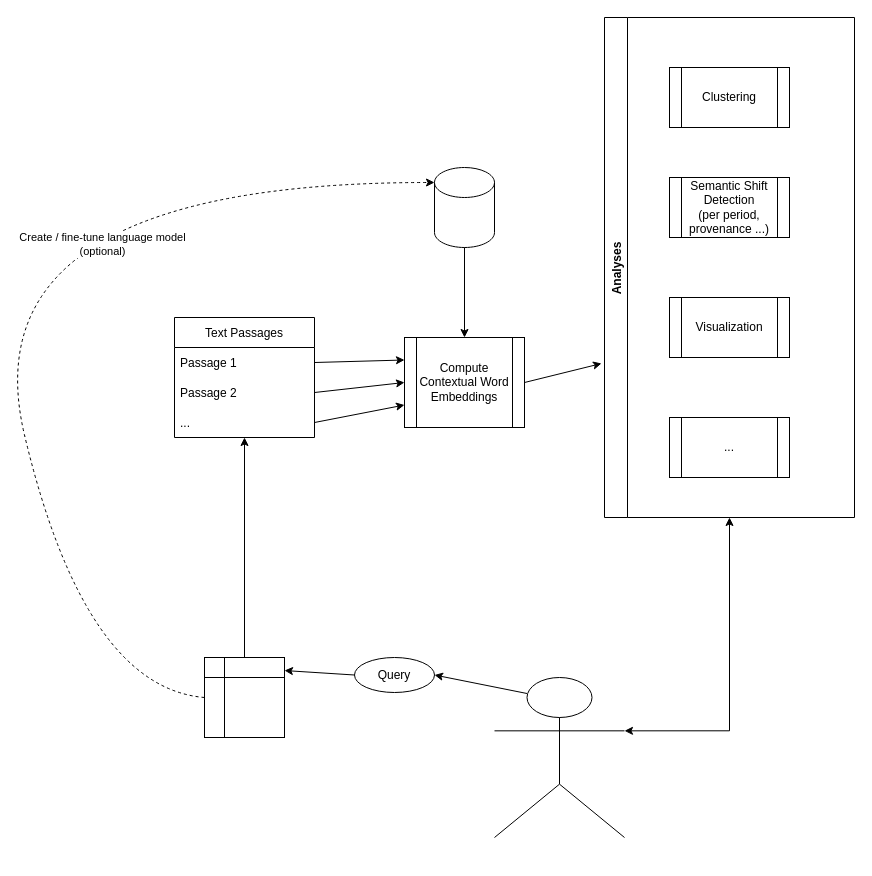
Image size: 872x876. Some labels were removed from this diagram. Here are the shapes that lost their labels. From the top down, the centre of each, then its label:
pixel 464 207: Language Model
pixel 244 697: Text Corpus
pixel 559 757: Text Corpus Researcher
